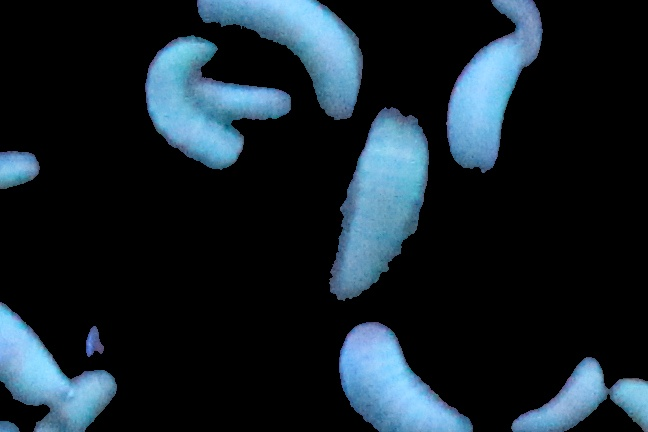larvae: (328, 99, 433, 304), (206, 1, 366, 126), (339, 322, 474, 432), (143, 35, 229, 178), (454, 39, 518, 174), (1, 283, 68, 399), (509, 351, 604, 432), (183, 78, 299, 122), (489, 1, 562, 65), (44, 369, 118, 432), (609, 365, 648, 431), (1, 153, 41, 187)
